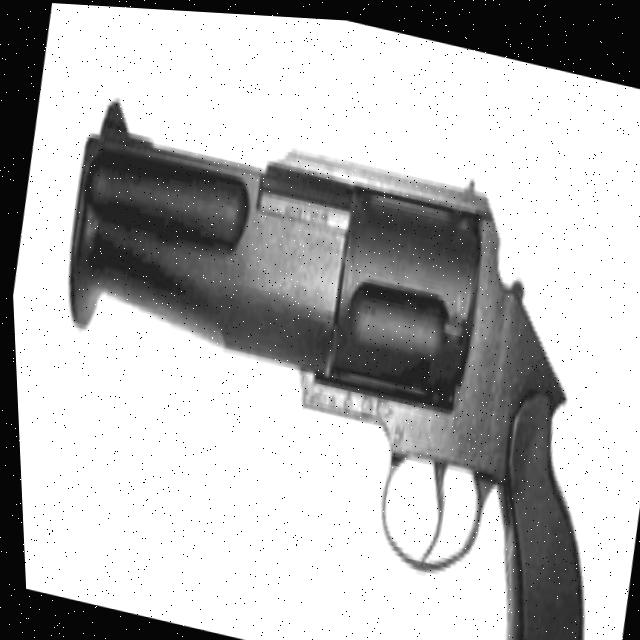pistol: (3, 82, 640, 640)
